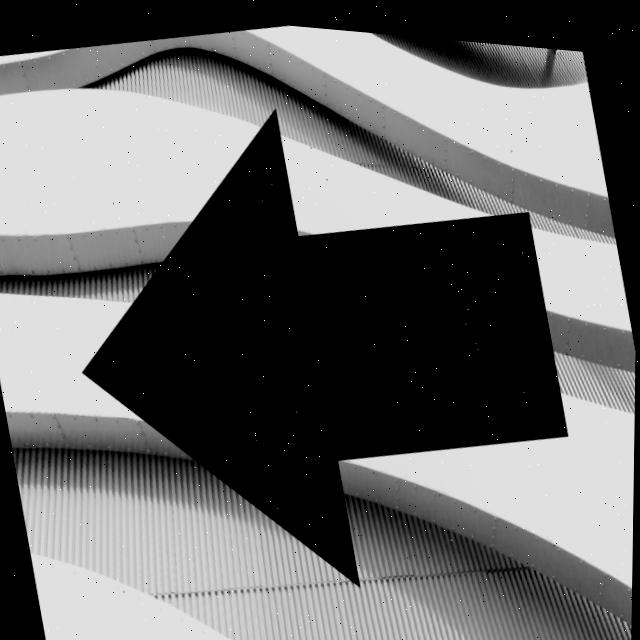LEFT: (85, 109, 568, 575)
